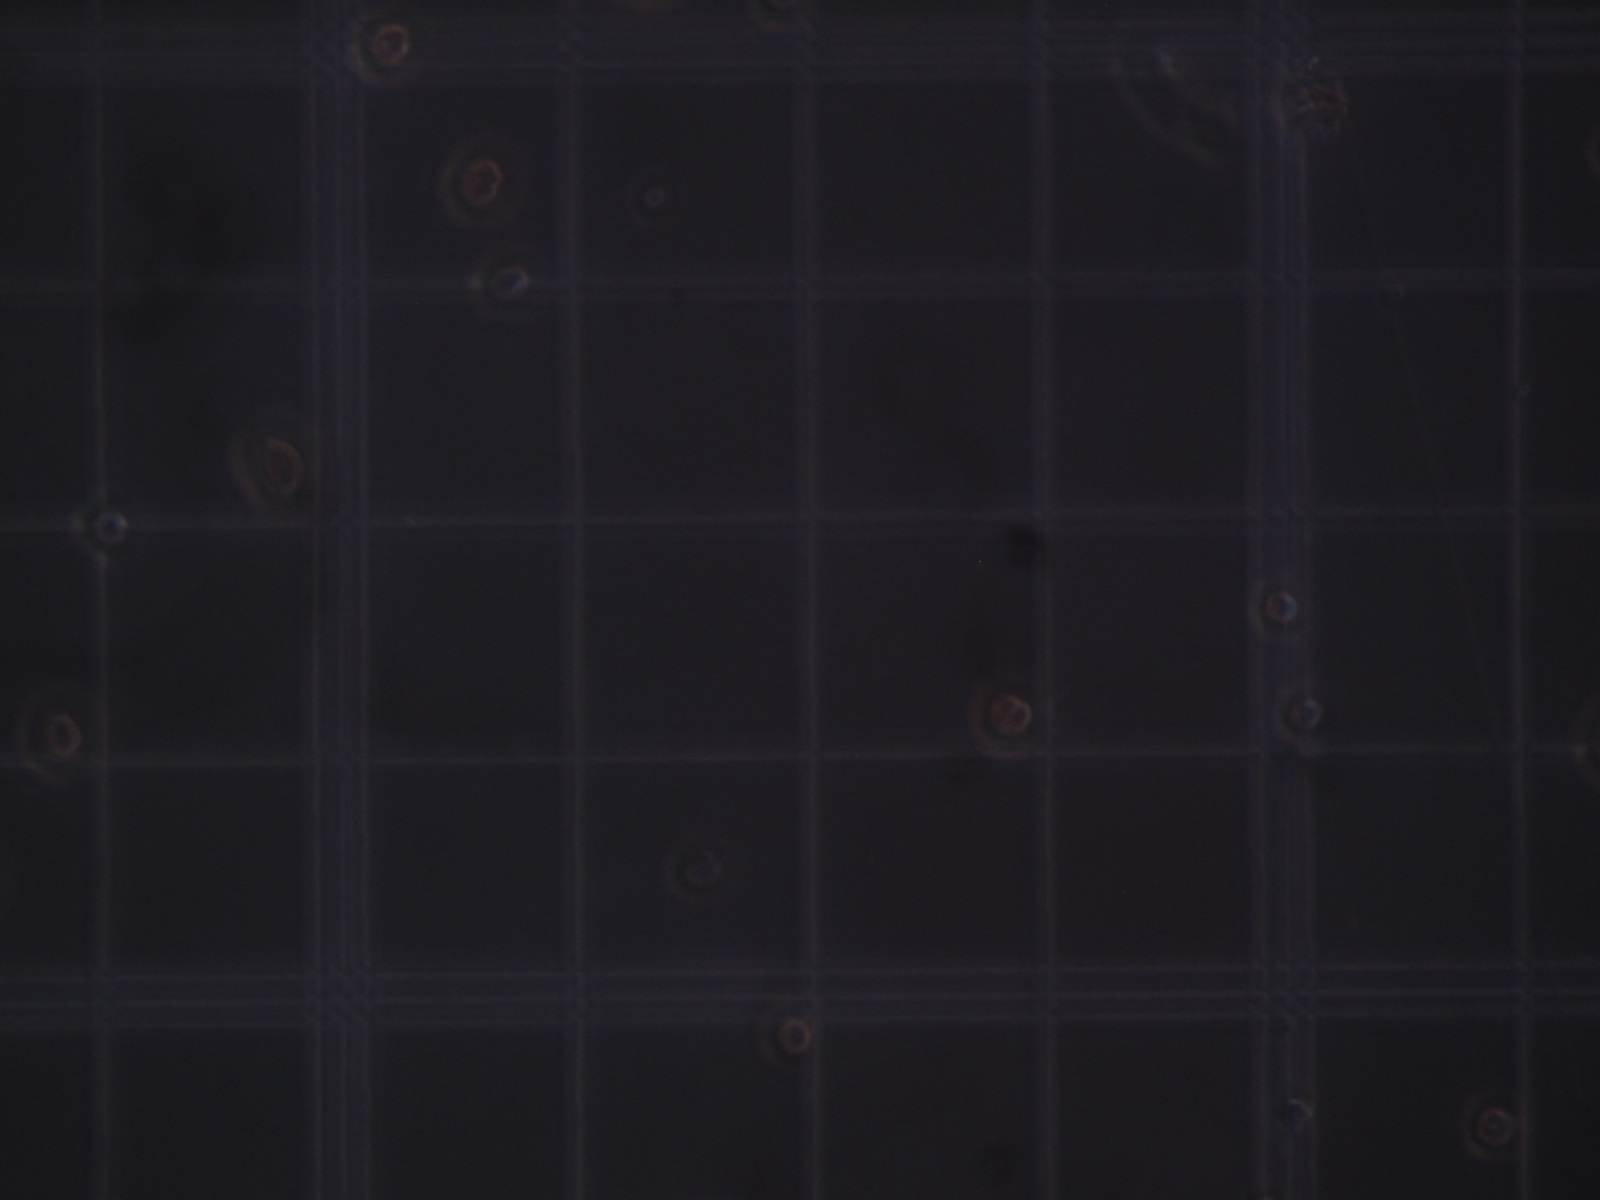hemo: (16, 691, 82, 784), (232, 430, 305, 512), (346, 10, 414, 95), (438, 153, 501, 232), (469, 251, 530, 323), (1270, 682, 1330, 755), (965, 688, 1031, 755), (1461, 1093, 1516, 1166), (1245, 575, 1300, 644), (750, 1005, 811, 1066), (71, 502, 130, 566), (660, 845, 721, 904), (626, 170, 666, 233), (1272, 1095, 1315, 1142)
